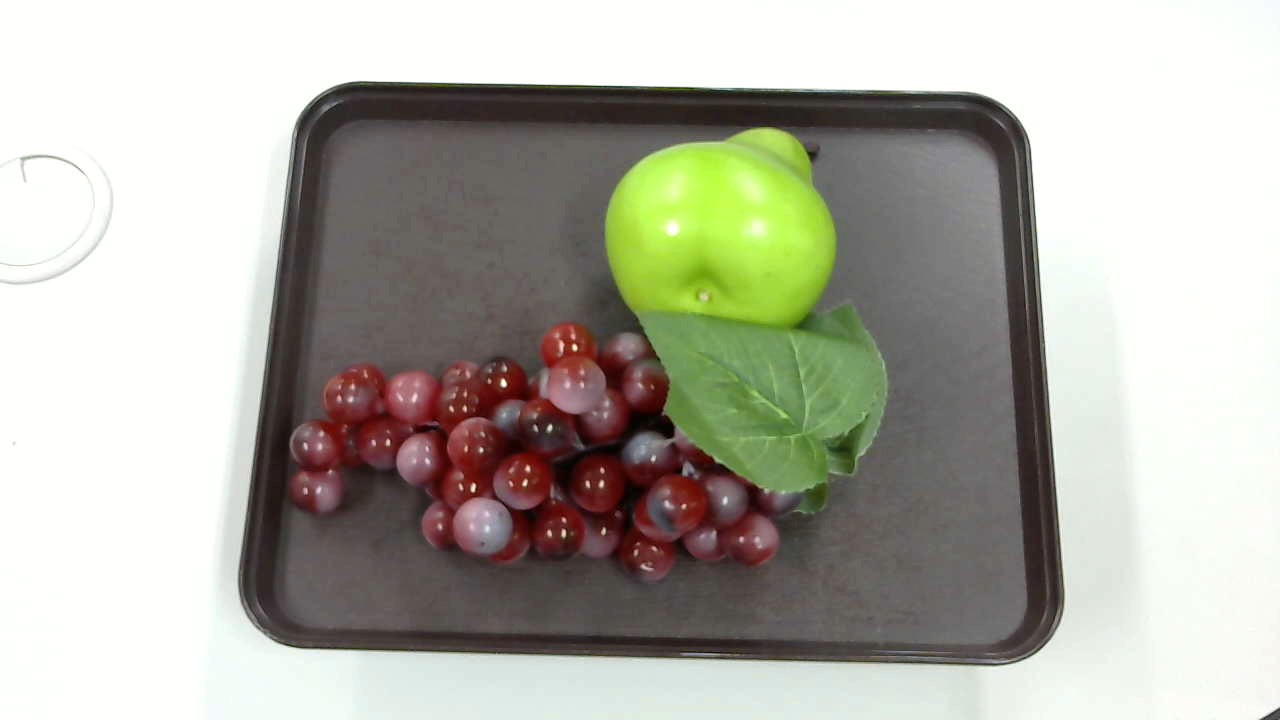grape: (281, 300, 886, 585)
green pear: (605, 124, 844, 342)
